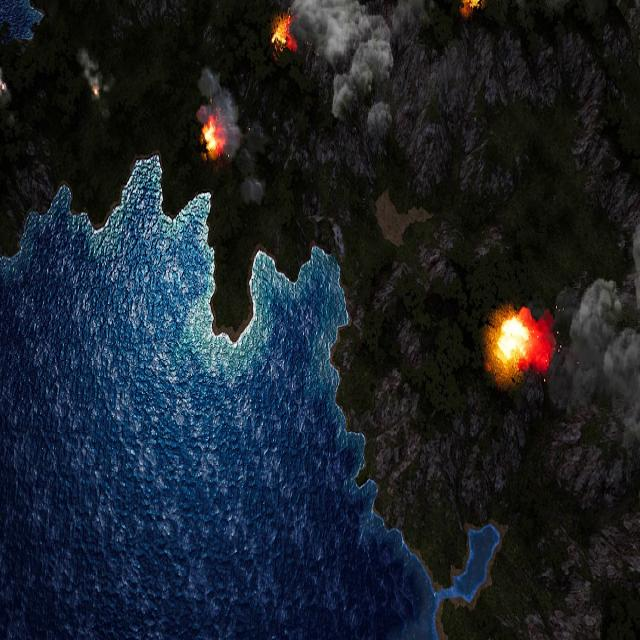fire: (494, 311, 531, 371), (272, 14, 296, 54), (201, 119, 225, 158), (462, 0, 481, 19), (92, 85, 101, 98)
smoke: (526, 220, 640, 442), (294, 0, 393, 132), (204, 66, 273, 205), (80, 44, 110, 113), (0, 69, 13, 107)
